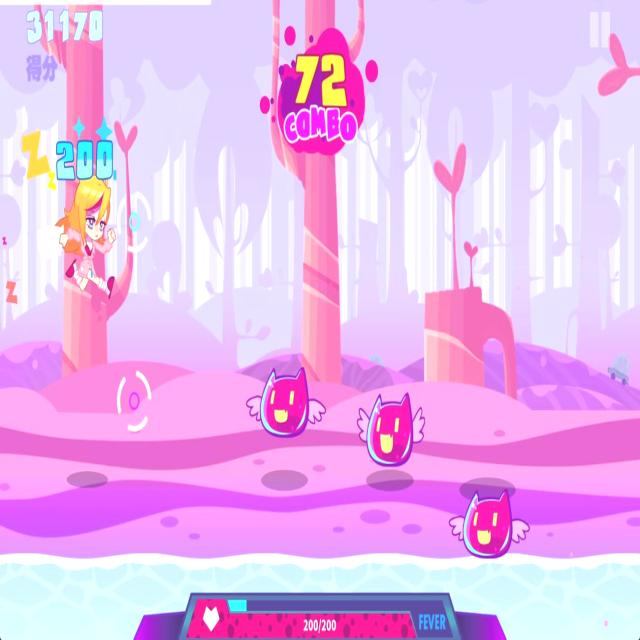mao: (445, 482, 531, 566), (246, 360, 328, 442), (356, 386, 426, 471)
